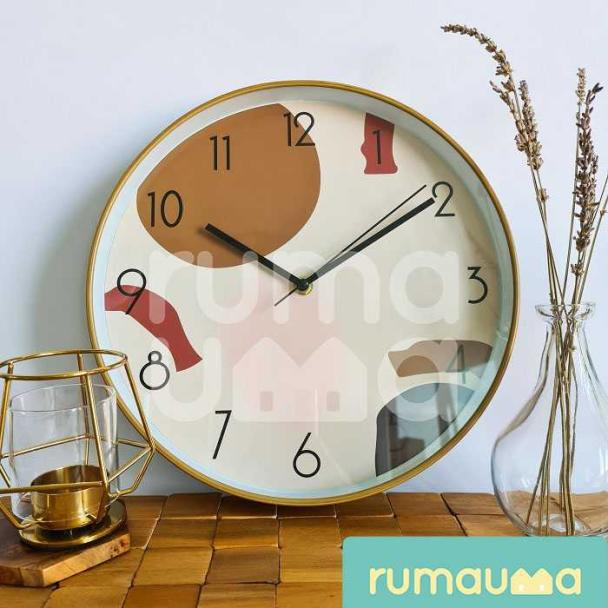Jam: (80, 84, 518, 508)
